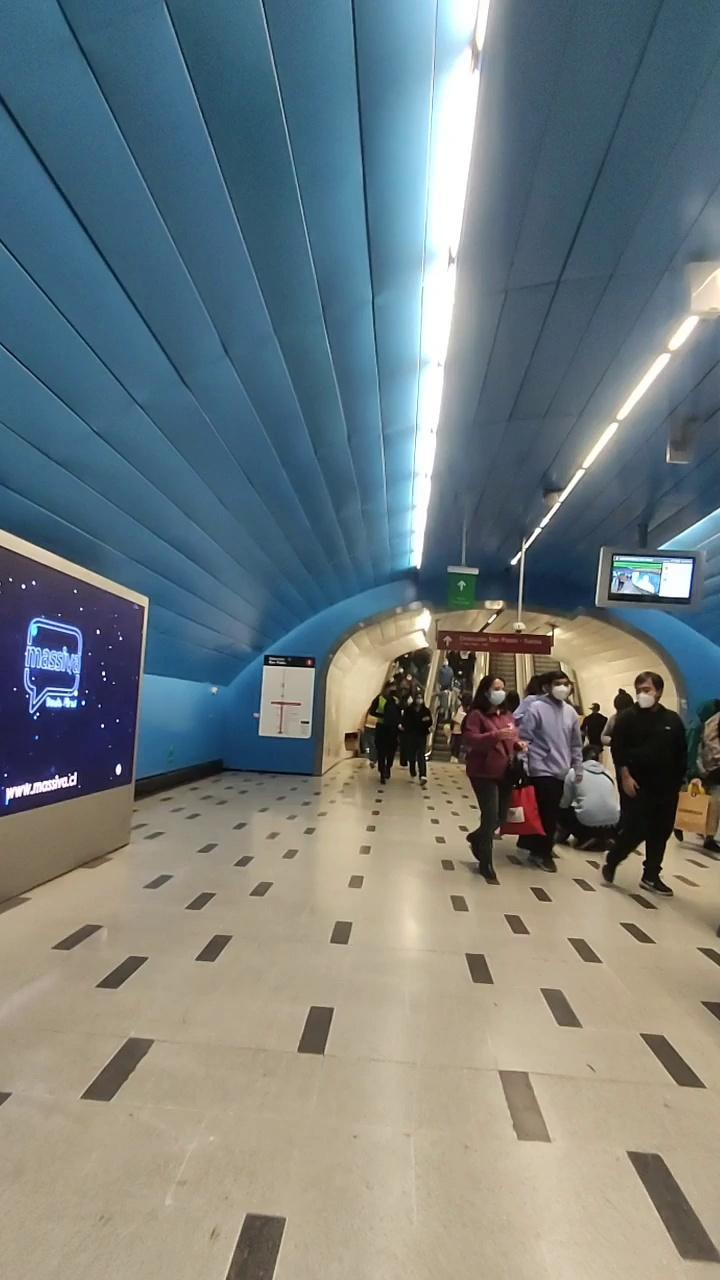up arrow: (450, 574, 474, 606), (442, 634, 452, 648)
